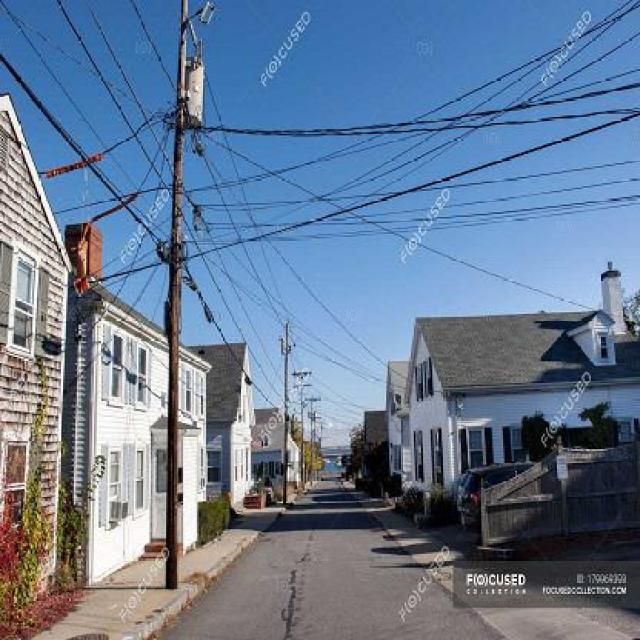pole: (135, 2, 231, 586)
